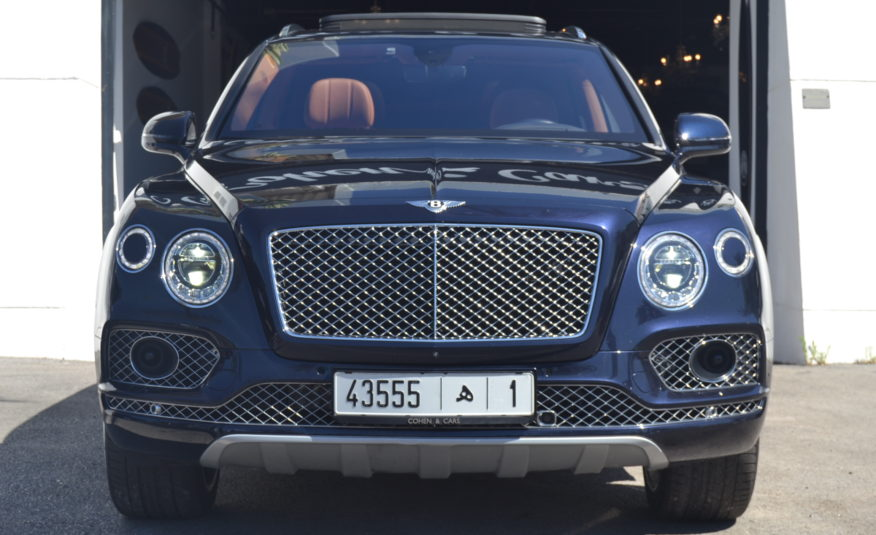number_plate: (328, 372, 540, 418)
